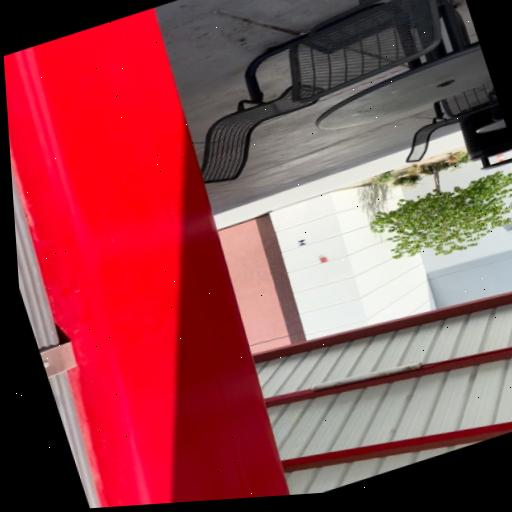target2: (297, 239, 307, 247)
